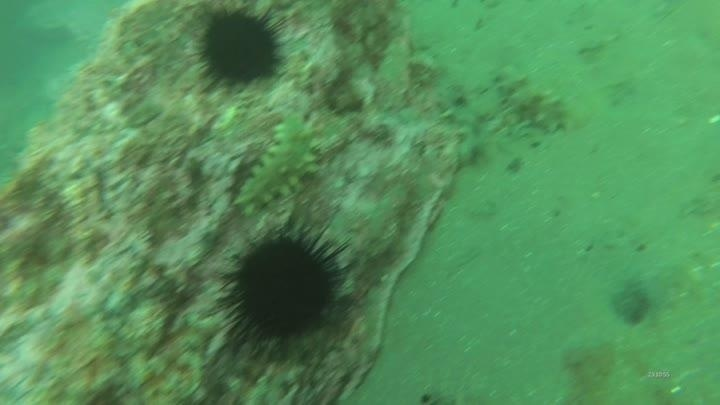echinus: (211, 217, 355, 356), (190, 3, 289, 92)
holothurian: (233, 108, 325, 217), (491, 62, 583, 137), (433, 75, 499, 167)
